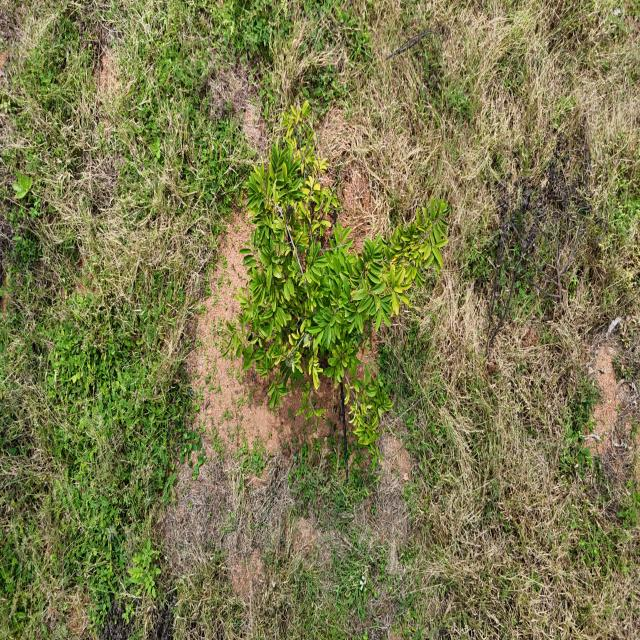notMangoTree: (234, 98, 452, 469)
